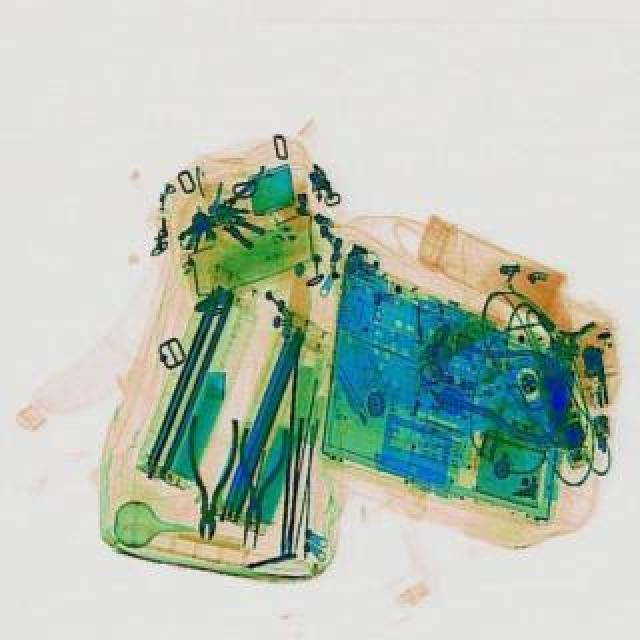wrench: (222, 422, 290, 550), (180, 412, 240, 540)
